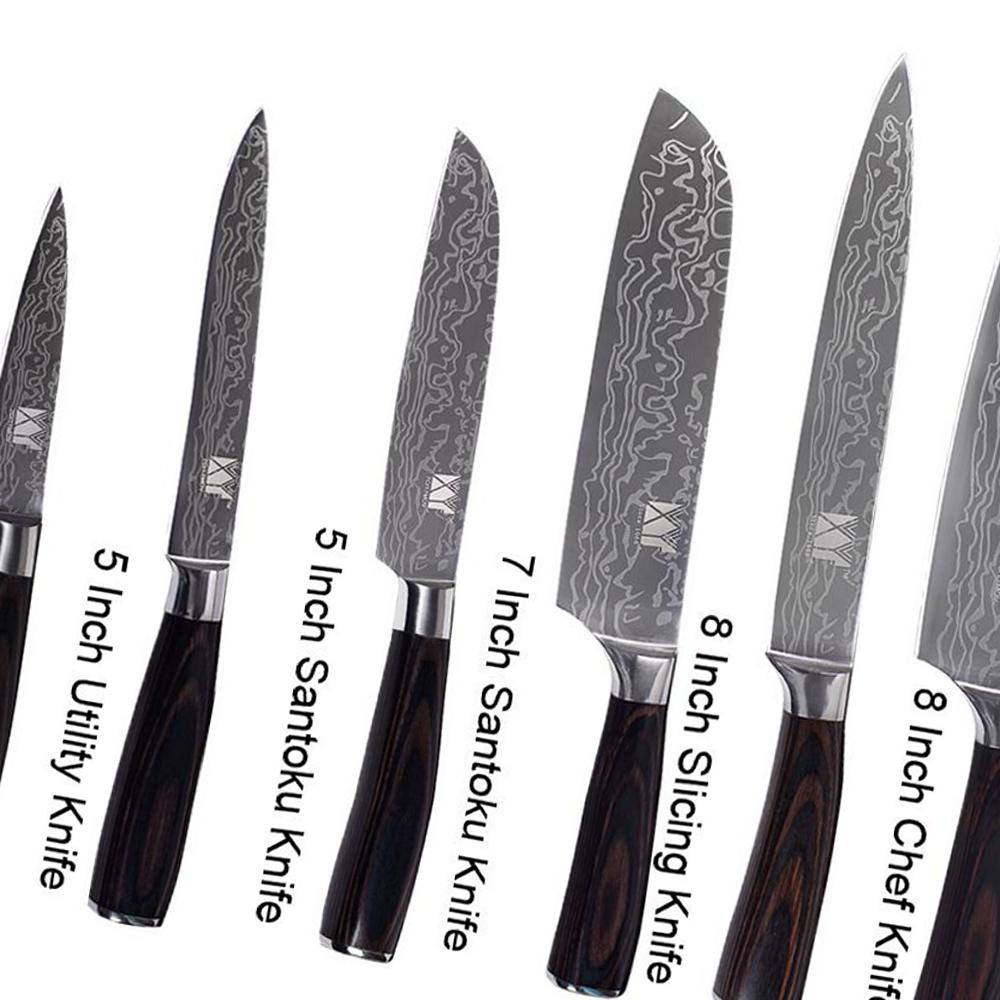knife: (320, 127, 500, 962), (92, 110, 270, 931)
